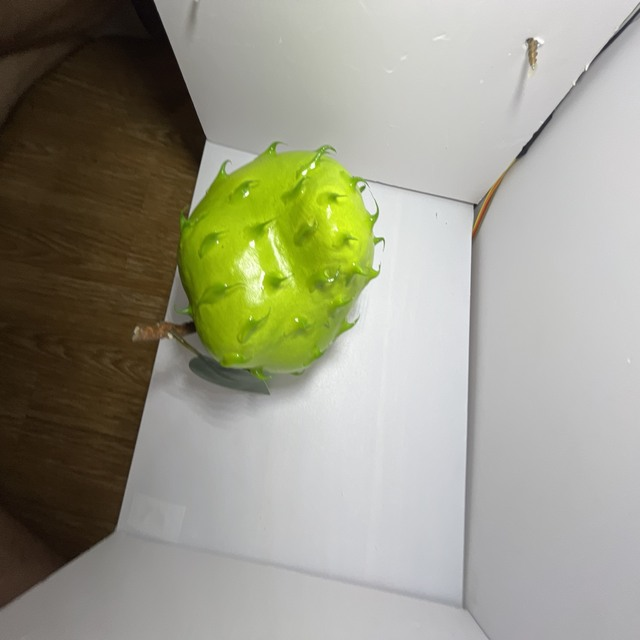Man cau: (161, 128, 387, 385)
